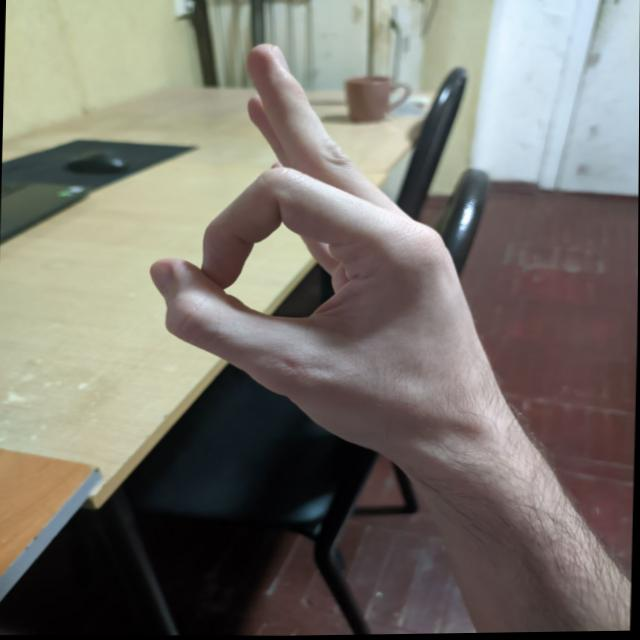o: (123, 18, 511, 467)
